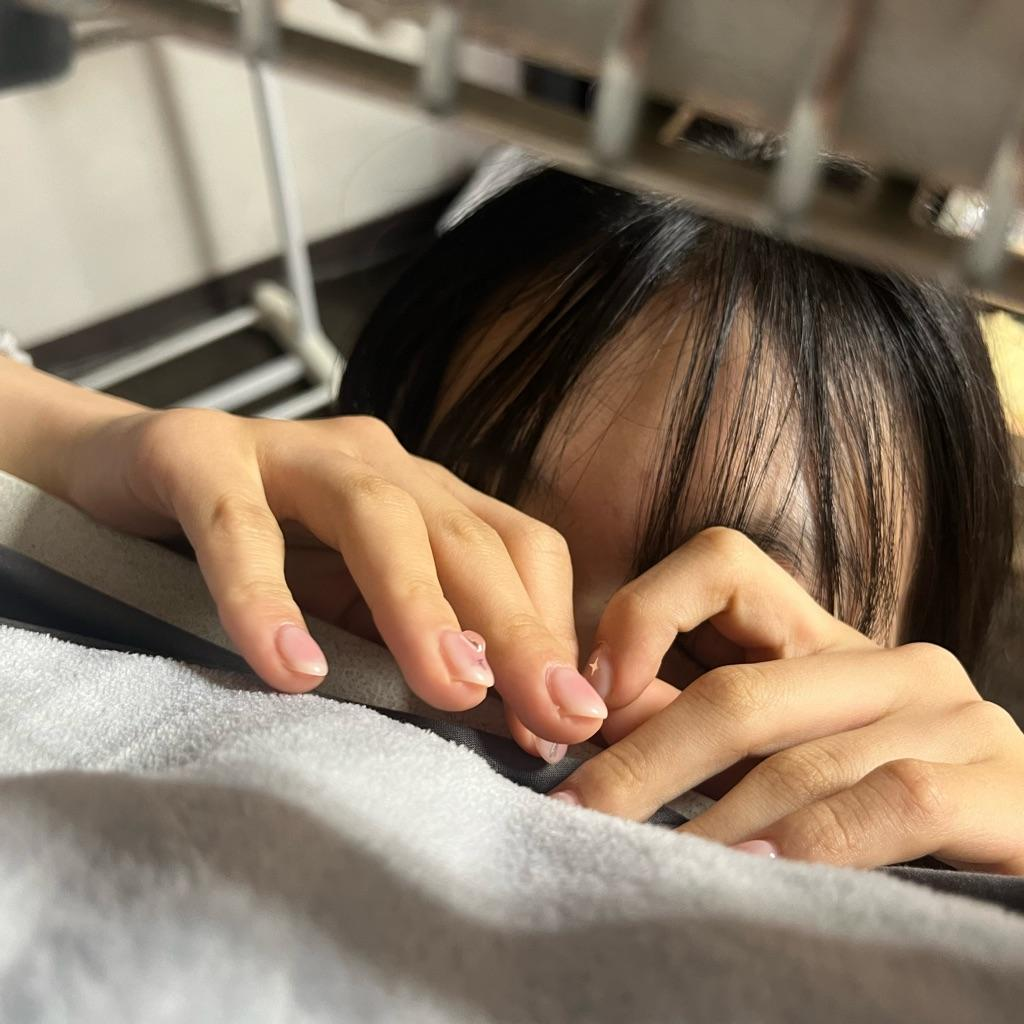nail: (544, 663, 608, 721), (438, 627, 494, 688), (274, 621, 328, 678), (730, 837, 777, 859), (535, 735, 567, 764)
